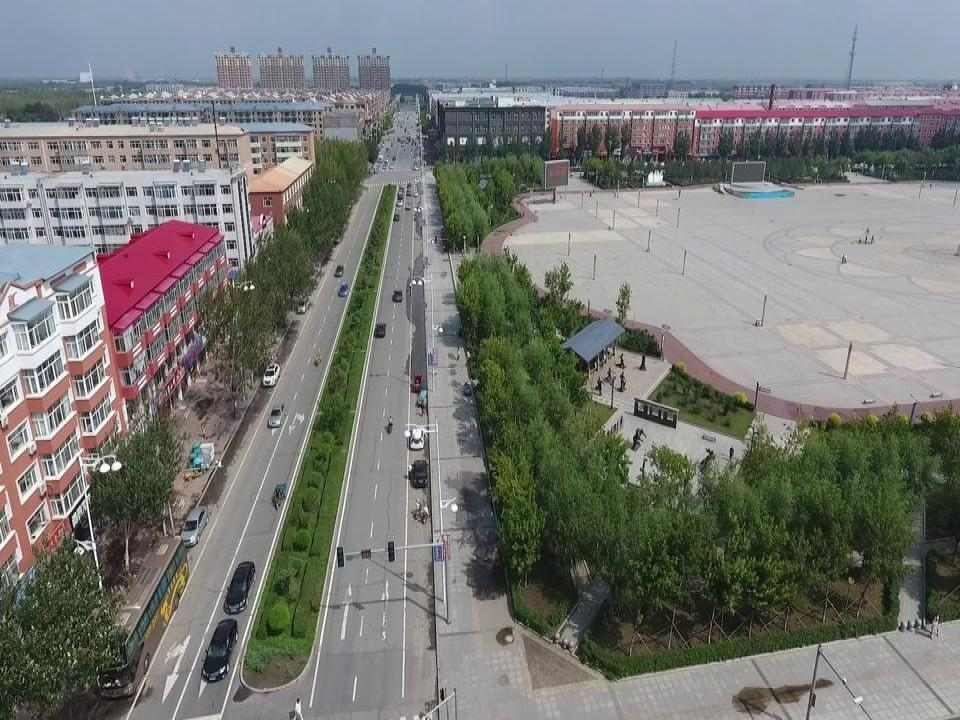bus: (94, 533, 191, 699)
car: (201, 617, 239, 683), (223, 560, 257, 615), (177, 505, 209, 548), (266, 401, 287, 428), (261, 361, 281, 388), (411, 459, 429, 488), (409, 426, 425, 450), (375, 322, 386, 338), (338, 281, 349, 296), (392, 289, 403, 303), (334, 264, 345, 277), (393, 213, 400, 220), (396, 199, 403, 205)
truck: (404, 202, 411, 209)
van: (297, 294, 310, 314)
